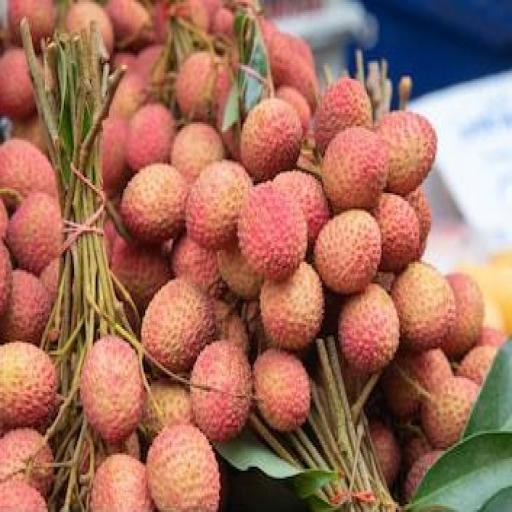lychee: (79, 337, 144, 443), (140, 278, 213, 372), (237, 184, 306, 279), (146, 426, 219, 511), (191, 341, 251, 441), (185, 160, 251, 250), (391, 262, 455, 350), (313, 209, 380, 293), (259, 262, 322, 350), (321, 127, 387, 210), (337, 284, 397, 374), (120, 164, 187, 244), (375, 111, 435, 194), (240, 99, 300, 181), (0, 343, 57, 427), (253, 349, 309, 431), (7, 192, 62, 275), (110, 237, 171, 311), (314, 77, 371, 153), (420, 377, 477, 448), (272, 172, 329, 242), (268, 32, 318, 110), (175, 52, 229, 122), (0, 270, 51, 344), (89, 453, 152, 511), (442, 274, 483, 358), (0, 430, 52, 496), (374, 193, 418, 271), (171, 235, 225, 297), (0, 138, 55, 198), (126, 103, 174, 171), (171, 123, 223, 183), (142, 379, 191, 435), (65, 0, 113, 53), (217, 245, 261, 299), (7, 0, 55, 49), (0, 48, 33, 118), (100, 115, 128, 196), (105, 0, 151, 47), (403, 449, 442, 500), (369, 422, 400, 486), (214, 302, 248, 354), (110, 73, 146, 122), (275, 85, 310, 135), (406, 188, 431, 257), (456, 347, 496, 385), (0, 481, 46, 511), (39, 258, 58, 303), (0, 245, 10, 317), (475, 327, 506, 348)
